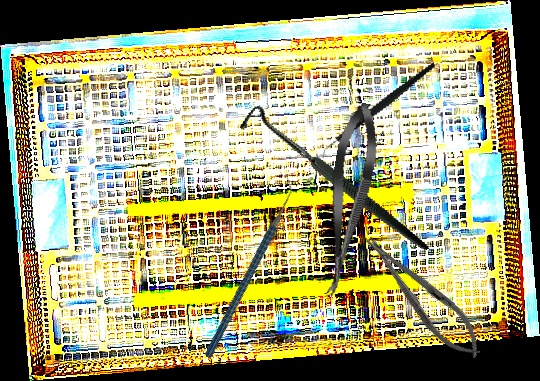Chopper: (154, 172, 343, 360), (304, 60, 453, 163)
Hook Surgical: (234, 65, 430, 300)
Micro Scissor: (312, 100, 385, 299)
Needle Holder: (355, 225, 492, 368)
